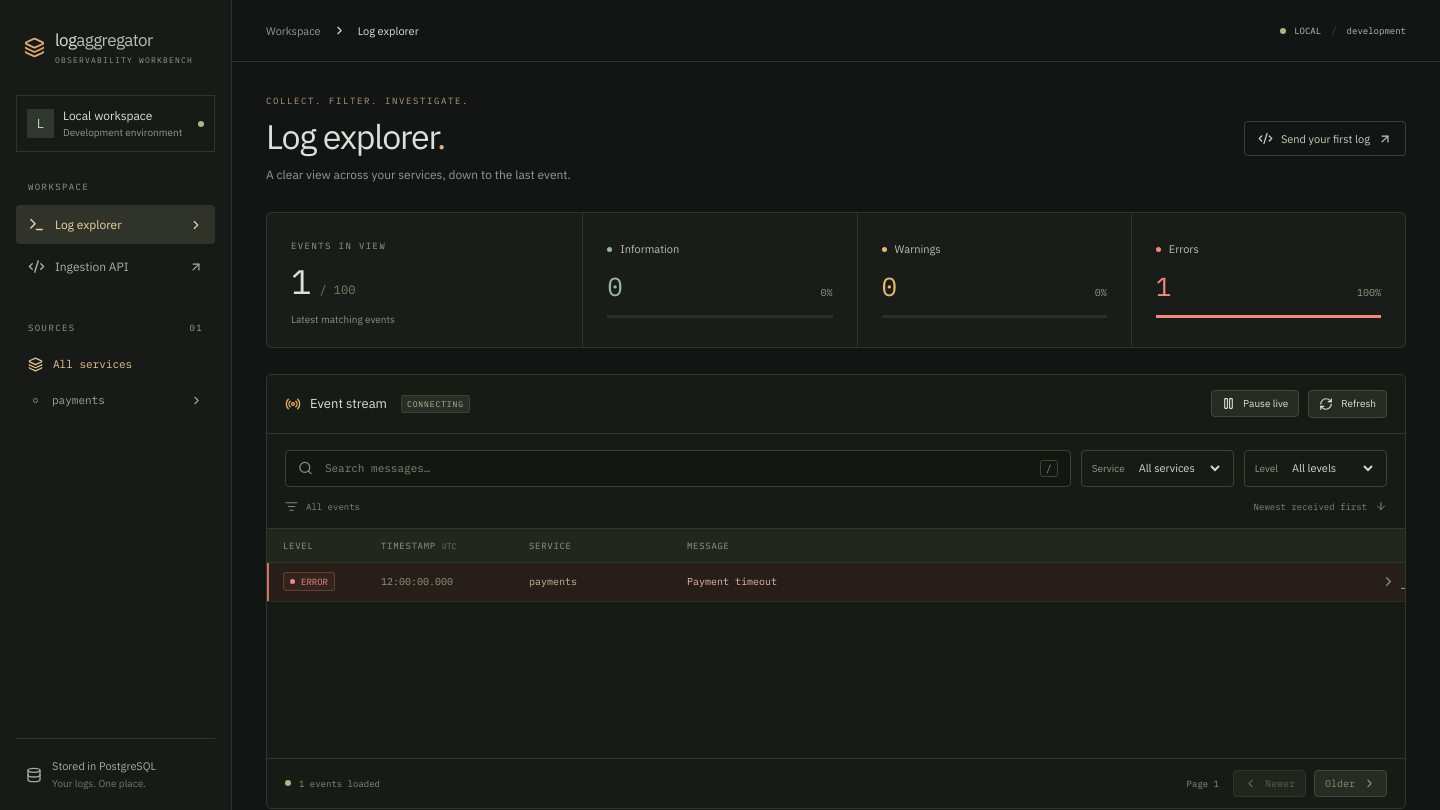
Scenario: pauses for historical pages and resumes at the latest page
Expected: the button "Payment timeout" is shown, [687,566,1369,598]
Click the button named "Older logs" at {"x": 1350, "y": 784}, box [1314,770,1387,797]
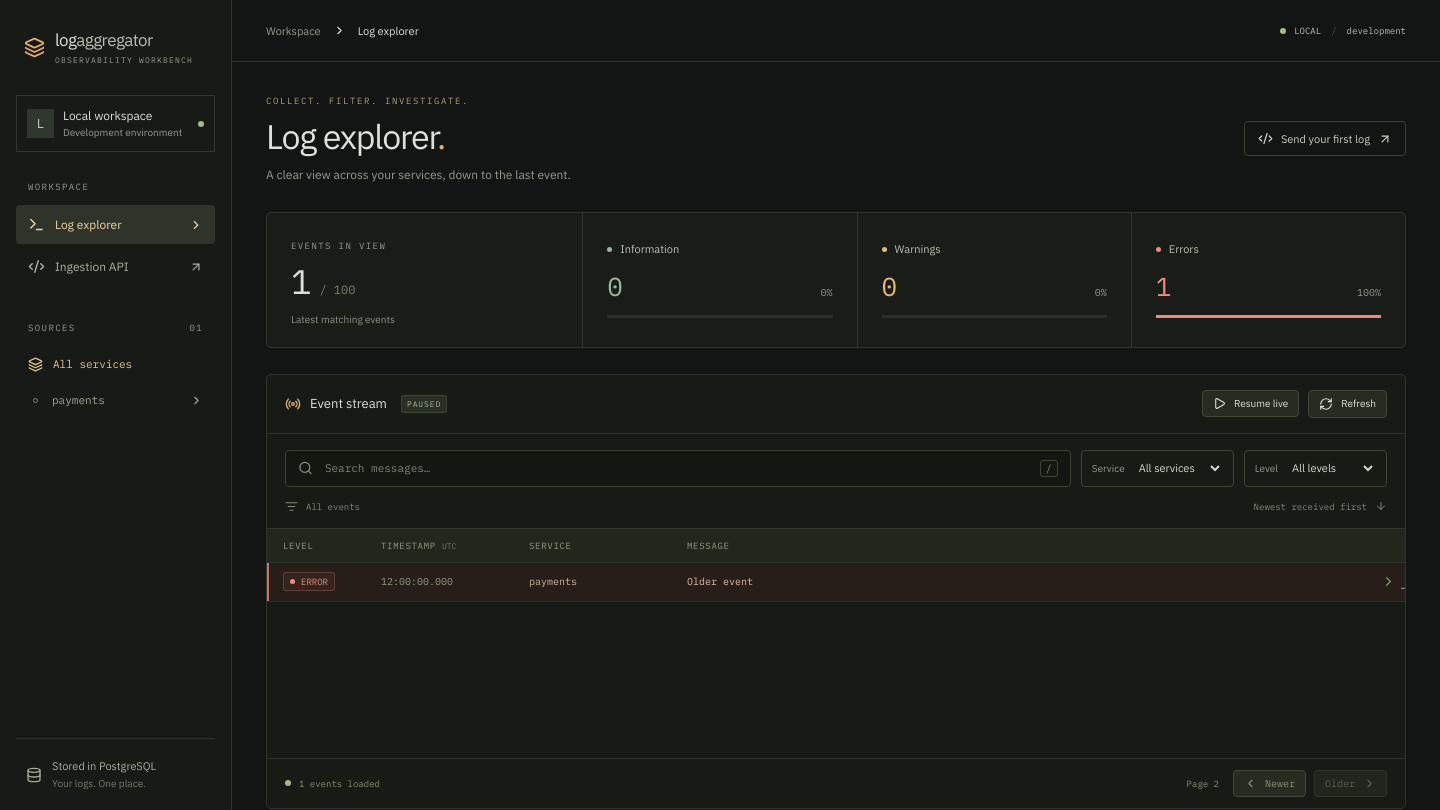
Expected: the button "Older event" is shown, [687,566,1369,598]
Expected: the text "Page 2" is shown, [1187,778,1219,789]
Expected: the button named "Older logs" is disabled, [1314,770,1387,797]
Click the button "Resume live" at {"x": 1251, "y": 404}, box [1202,390,1299,418]
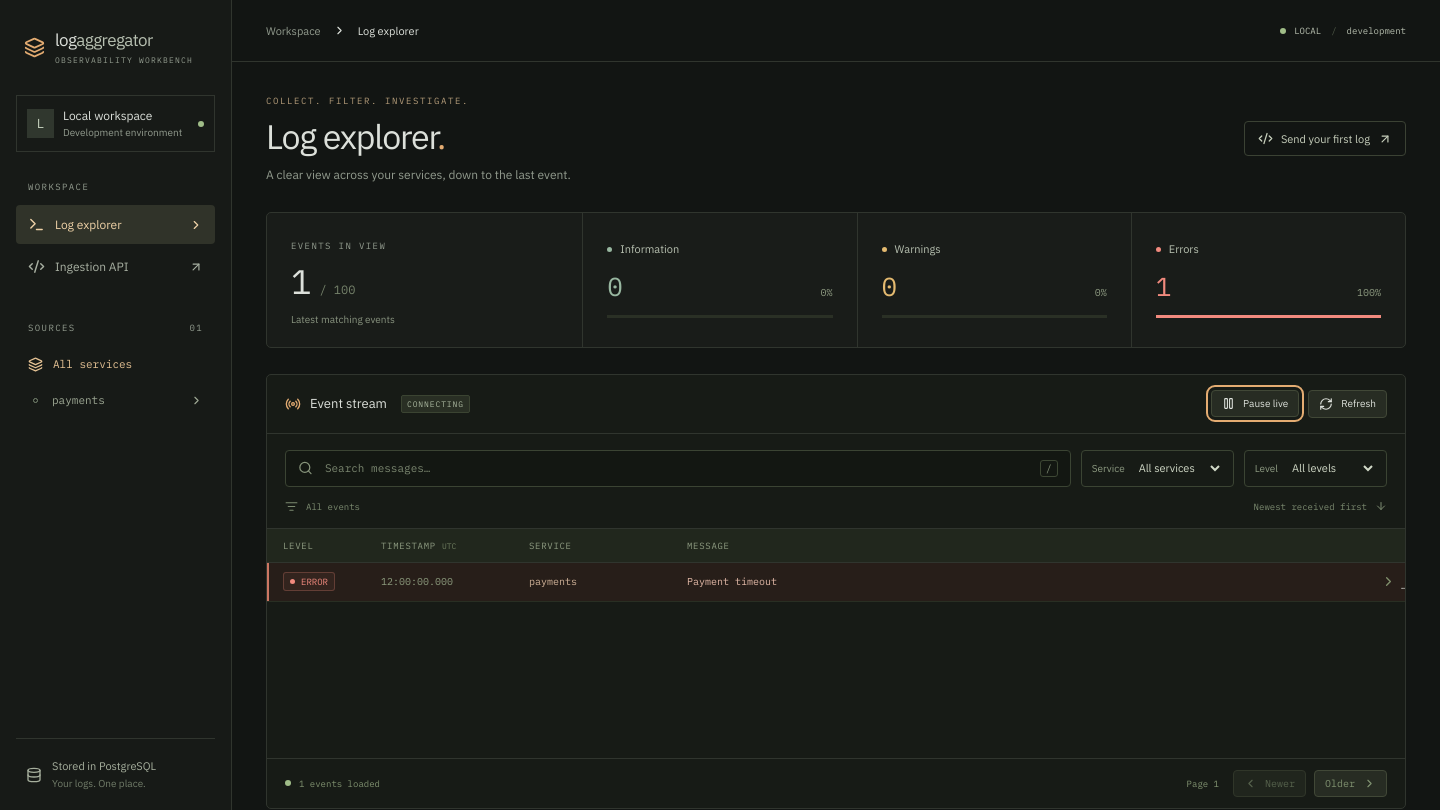
Expected: the button "Payment timeout" is shown, [687,566,1369,598]
Expected: the text "Page 1" is shown, [1187,778,1219,789]
